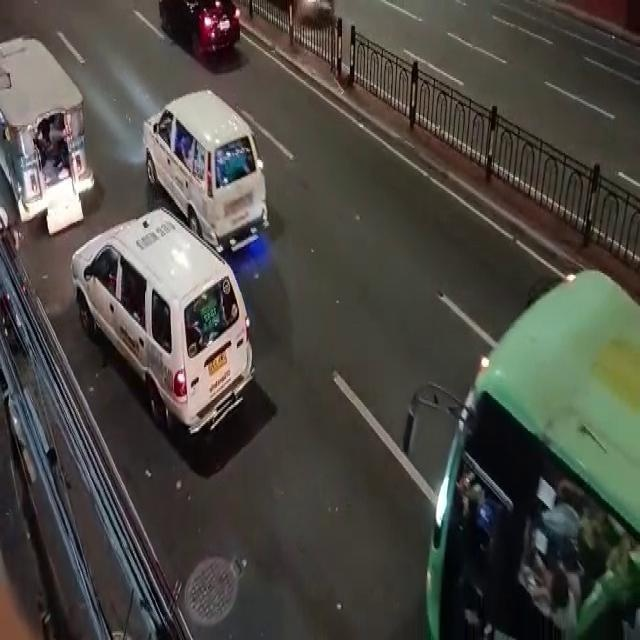bus: (0, 245, 416, 638)
car: (82, 220, 243, 441), (145, 99, 268, 240)
jeepney: (0, 37, 93, 229)
